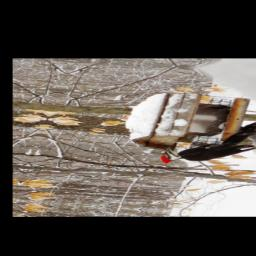Woodpecker: (157, 120, 256, 170)
